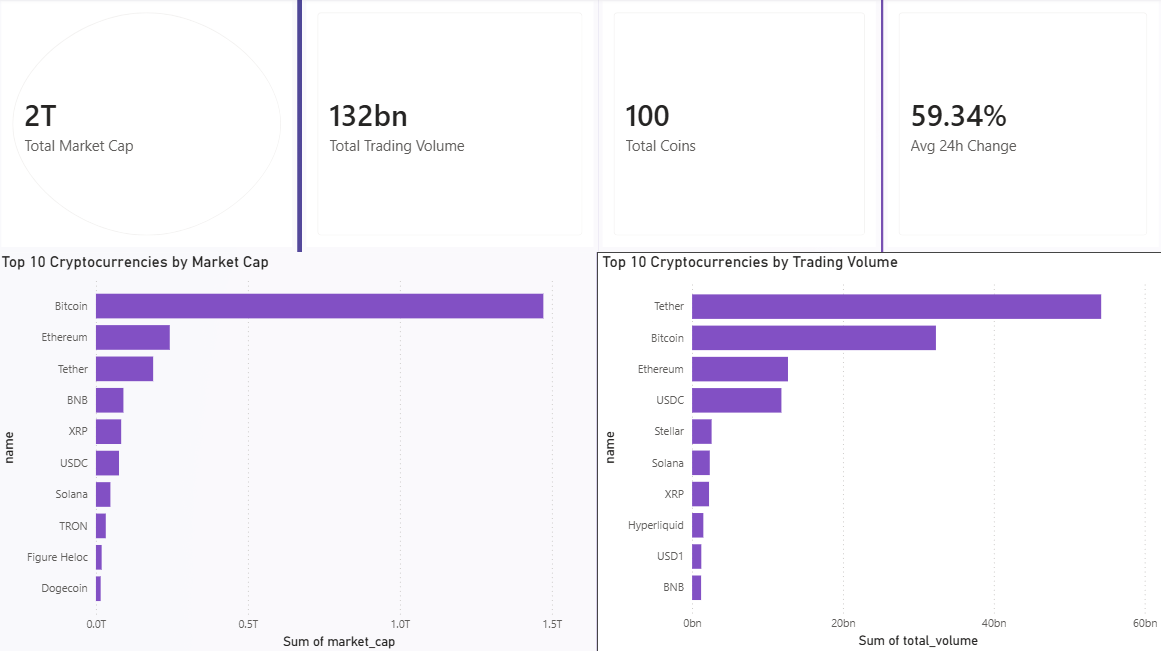

The page's visual inventory and layout, read from the dashboard file:
{"tool":"powerbi","page":{"name":"Page 1","canvas":[1280,720],"ordinal":0},"visuals":[{"type":"cardVisual","fields":{"Data":["crypto_cleaned.Avg 24h Change"]},"box":[972.9,0,307.4,279.9],"z":0},{"type":"cardVisual","fields":{"Data":["crypto_cleaned.Total Coins"]},"box":[660,0,310.1,279.9],"z":1000},{"type":"cardVisual","fields":{"Data":["crypto_cleaned.Total Market Cap"]},"box":[0,0,329.3,279.9],"z":2000},{"type":"cardVisual","fields":{"Data":["crypto_cleaned.Total Trading Volume"]},"box":[334.8,0,325.2,279.9],"z":3000},{"type":"clusteredBarChart","title":"Top 10 Cryptocurrencies by Market Cap","fields":{"Category":["crypto_cleaned.name"],"Y":["Sum(crypto_cleaned.market_cap)"]},"box":[0,279.9,658.7,440.5],"z":4000},{"type":"clusteredBarChart","title":"Top 10 Cryptocurrencies by Trading Volume","fields":{"Category":["crypto_cleaned.name"],"Y":["Sum(crypto_cleaned.total_volume)"]},"box":[658.7,279.9,621.6,440.5],"z":5000}]}

Visuals, with their boxes in screenshot pixels (x1, y1, x2, y2), scaled from the page's 1280x720 canvas onto the 1161x651 screenshot:
cardVisual - crypto_cleaned.Avg 24h Change: x1=882 y1=0 x2=1160 y2=253
cardVisual - crypto_cleaned.Total Coins: x1=599 y1=0 x2=880 y2=253
cardVisual - crypto_cleaned.Total Market Cap: x1=0 y1=0 x2=299 y2=253
cardVisual - crypto_cleaned.Total Trading Volume: x1=304 y1=0 x2=599 y2=253
"Top 10 Cryptocurrencies by Market Cap" clusteredBarChart: x1=0 y1=253 x2=597 y2=650
"Top 10 Cryptocurrencies by Trading Volume" clusteredBarChart: x1=597 y1=253 x2=1160 y2=650
